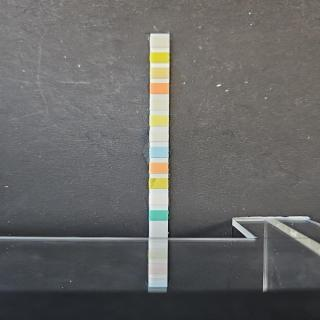mark: (151, 35, 169, 48), (149, 193, 168, 205), (151, 98, 168, 111), (150, 178, 168, 190), (150, 162, 168, 174), (150, 146, 168, 158), (150, 82, 168, 94), (150, 67, 168, 79), (151, 114, 168, 126), (150, 52, 168, 63), (151, 130, 167, 142), (150, 210, 167, 221)
